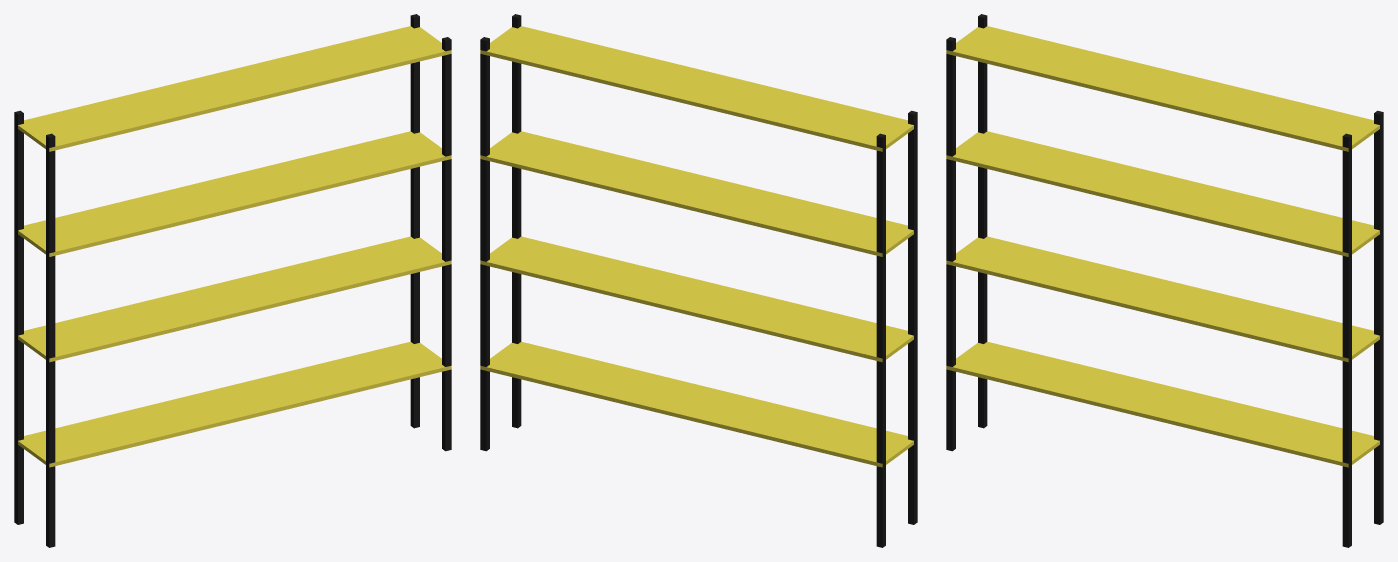
File: shelf_collision.dae
3 renders of one model, left to right at view 1: azimuth 30°, elevation 25°; view 2: azimuth 150°, elevation 25°; view 3: azimuth 330°, elevation 25°, orthographic.
Parts seen in each view (by area): view 1: board_4, board_2, board_3, board_1, post_4, post_3, post_2, post_1; view 2: board_4, board_2, board_3, board_1, post_3, post_4, post_1, post_2; view 3: board_4, board_2, board_3, board_1, post_2, post_1, post_4, post_3.
Part boxes in pixels (x1=…): board_4: x1=18, y1=26, x2=451, y2=151; board_2: x1=18, y1=236, x2=451, y2=362; board_3: x1=18, y1=131, x2=451, y2=256; board_1: x1=18, y1=341, x2=451, y2=467; post_4: x1=46, y1=133, x2=55, y2=547; post_3: x1=14, y1=110, x2=23, y2=524; post_2: x1=442, y1=37, x2=451, y2=451; post_1: x1=410, y1=14, x2=419, y2=428; board_4: x1=480, y1=26, x2=913, y2=151; board_2: x1=480, y1=236, x2=913, y2=362; board_3: x1=480, y1=131, x2=913, y2=256; board_1: x1=480, y1=341, x2=913, y2=467; post_3: x1=876, y1=133, x2=885, y2=547; post_4: x1=908, y1=110, x2=917, y2=524; post_1: x1=480, y1=37, x2=489, y2=451; post_2: x1=512, y1=14, x2=521, y2=428; board_4: x1=946, y1=26, x2=1379, y2=151; board_2: x1=946, y1=236, x2=1379, y2=362; board_3: x1=946, y1=131, x2=1379, y2=256; board_1: x1=946, y1=341, x2=1379, y2=467; post_2: x1=1342, y1=133, x2=1351, y2=547; post_1: x1=1374, y1=110, x2=1383, y2=524; post_4: x1=946, y1=37, x2=955, y2=451; post_3: x1=978, y1=14, x2=987, y2=428.
Size of the model in its own units: 2 by 0.3 by 1.95.
